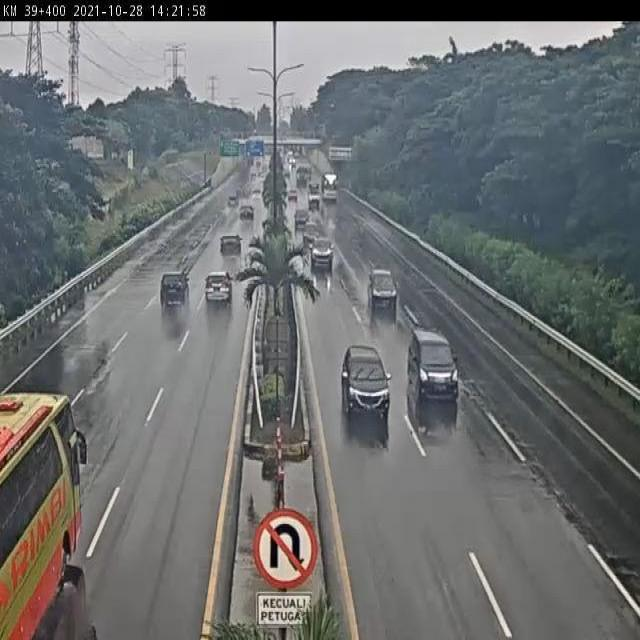big bus: (0, 385, 83, 640)
car: (338, 347, 391, 422), (409, 328, 462, 400), (158, 268, 194, 313), (204, 268, 235, 309), (367, 268, 399, 305), (216, 232, 244, 263), (311, 232, 335, 263), (303, 217, 322, 247), (235, 206, 255, 230)
